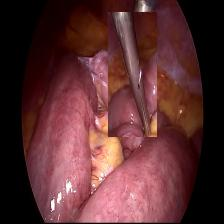Grasper: (108, 12, 157, 137)
